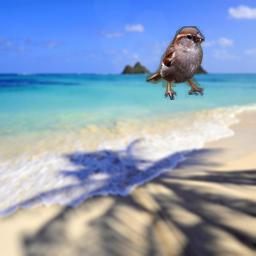Sparrow: (146, 26, 205, 100)
